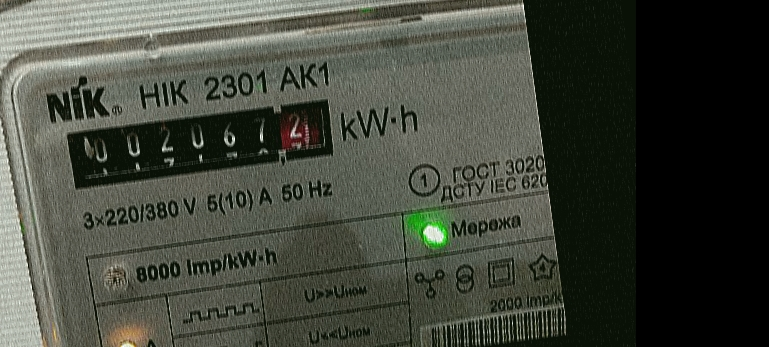0: (90, 133, 112, 164), (123, 127, 144, 158), (186, 118, 207, 149)
2: (284, 108, 306, 139), (156, 123, 177, 154)
6: (219, 117, 241, 148)
7: (252, 113, 271, 145)
screen: (52, 83, 352, 203)
